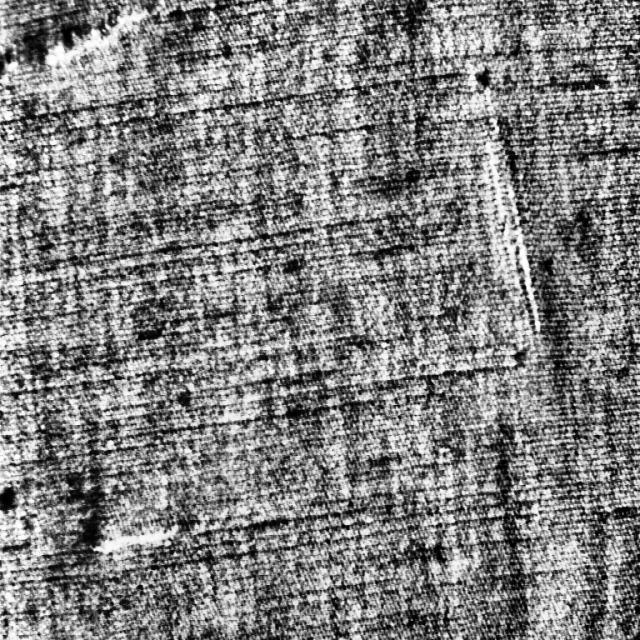Stitch: (480, 106, 543, 356), (0, 0, 154, 79), (80, 491, 183, 561)
